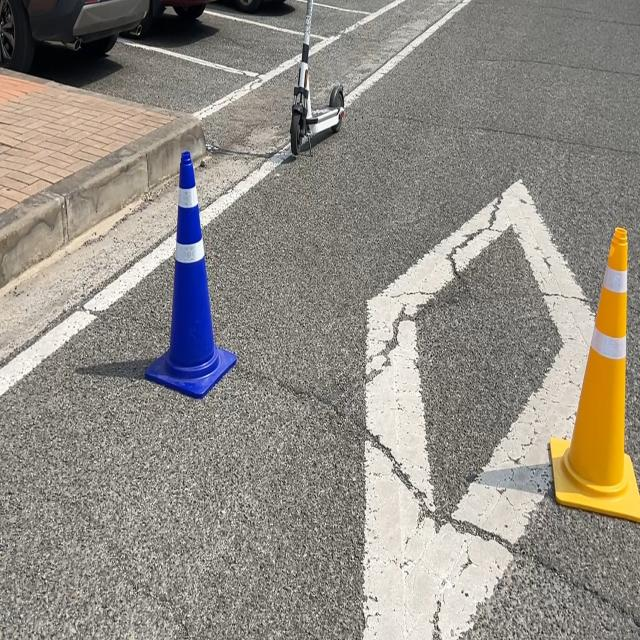b_rub: (145, 150, 237, 397)
y_rub: (551, 226, 640, 522)
